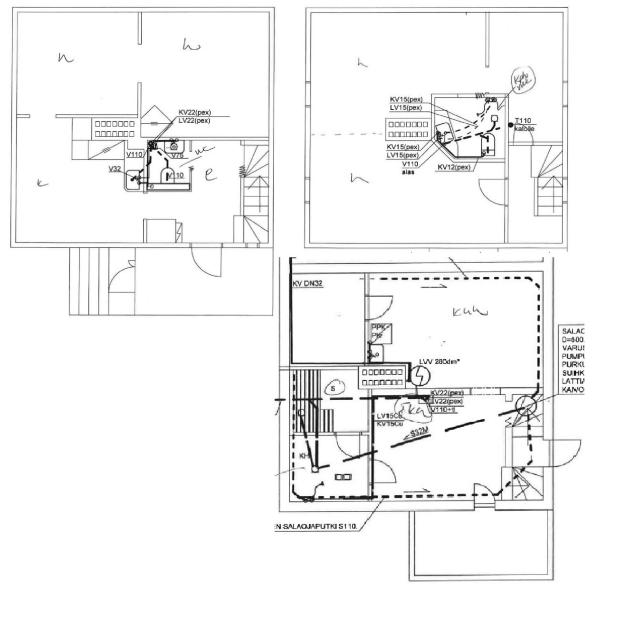door: (188, 240, 224, 280), (550, 436, 585, 468), (476, 176, 509, 207), (333, 429, 365, 460), (364, 292, 396, 322), (370, 456, 400, 486), (108, 264, 137, 294)
window: (238, 140, 258, 176), (560, 80, 571, 108), (313, 494, 346, 503)
zone: (370, 284, 544, 386), (139, 11, 273, 138), (13, 117, 131, 246), (371, 398, 512, 499), (14, 10, 140, 116), (410, 511, 552, 580), (493, 7, 566, 139), (290, 276, 367, 366), (188, 143, 244, 243), (298, 437, 372, 499), (148, 141, 244, 187), (435, 98, 500, 154), (146, 139, 193, 186), (311, 398, 370, 433), (359, 364, 409, 393), (386, 113, 431, 141)
